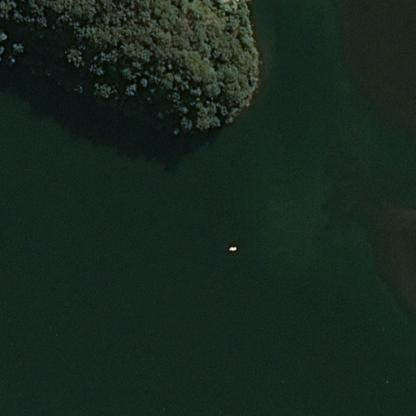ship: (228, 246, 236, 251)
